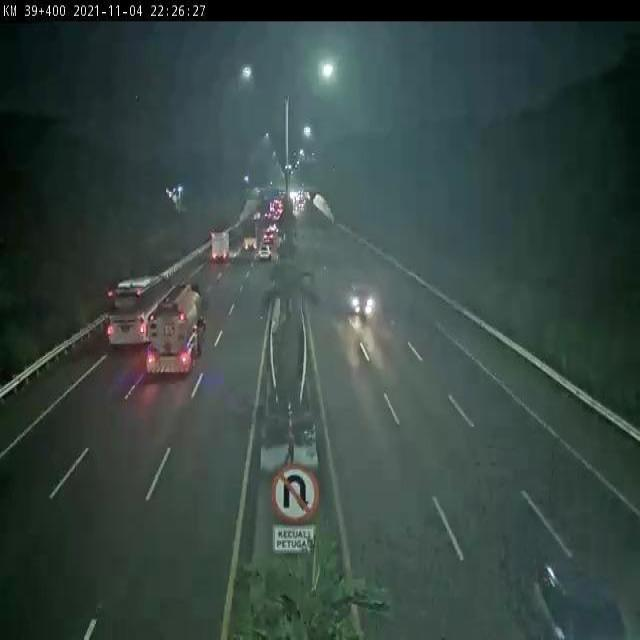ARABA: (529, 552, 627, 640), (345, 274, 378, 322), (258, 245, 273, 264), (262, 230, 276, 246)
OTOBUS: (105, 272, 173, 348)
TIR: (145, 281, 209, 379), (210, 228, 233, 268)
